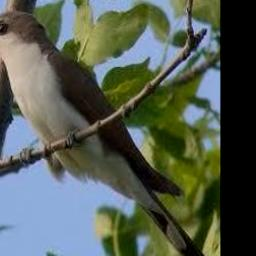Cuckoo: (0, 11, 220, 256)
